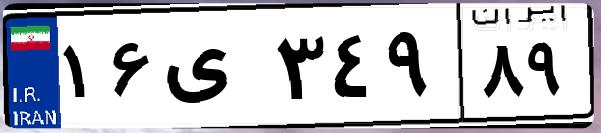1: (57, 26, 110, 100)
3: (270, 28, 330, 110)
4: (330, 28, 385, 110)
6: (110, 28, 158, 98)
8: (475, 38, 525, 113)
9: (385, 28, 445, 110), (525, 38, 570, 115)
ی: (158, 20, 270, 120)
